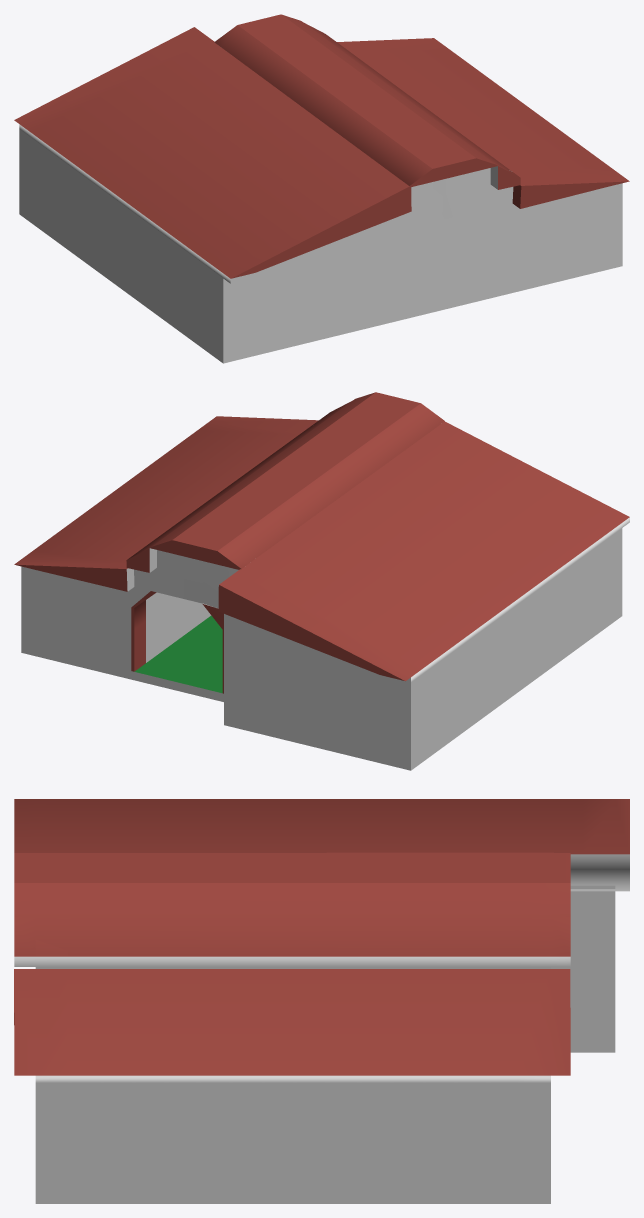
File: house.fbx
3 views of the same model, one above another, from view 1: azimuth 30°, elevation 25°; view 2: azimuth 150°, elevation 25°; view 3: azimuth 270°, elevation 25° (orthographic). The views are drawn at different scales.
Parts seen in each view (by area): view 1: Cube; view 2: Cube; view 3: Cube.
Part boxes in pixels (<box>): Cube: <box>14,14,629,363</box>; Cube: <box>14,392,629,770</box>; Cube: <box>14,799,629,1203</box>.
Bounding box in the file's own units: 5683 × 2058 × 5348.
